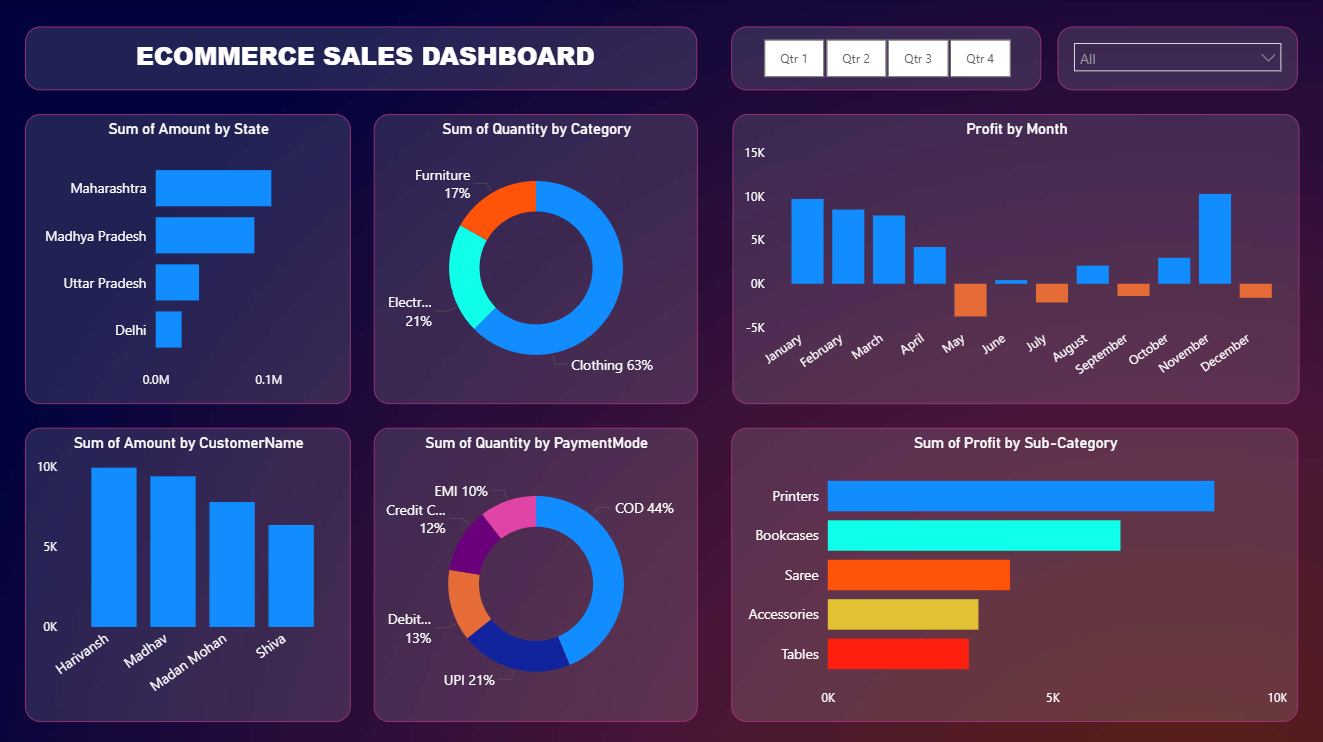

Layout of this report page (visuals, bound fields, positions):
{"tool":"powerbi","page":{"name":"Page 1","canvas":[1280,720],"ordinal":0},"visuals":[{"type":"textbox","box":[24.7,26.1,649.1,61.7],"z":0},{"type":"columnChart","title":"Profit by Month","fields":{"Category":["Orders.Order Date.Variation.Date Hierarchy.Month"],"Y":["Sum(Details.Profit)"]},"box":[706.7,111.1,547.5,279.9],"z":1000},{"type":"barChart","fields":{"Category":["Details.Sub-Category"],"Y":["Sum(Details.Profit)"]},"box":[705.3,414.4,547.5,284],"z":2000},{"type":"donutChart","fields":{"Category":["Details.Category"],"Y":["Sum(Details.Quantity)"]},"box":[360.9,111.1,312.9,279.9],"z":3000},{"type":"donutChart","fields":{"Y":["Sum(Details.Quantity)"],"Category":["Details.PaymentMode"]},"box":[360.9,414.4,312.9,284],"z":4000},{"type":"barChart","fields":{"Category":["Orders.State"],"Y":["Sum(Details.Amount)"]},"box":[24.7,111.1,314.2,279.9],"z":5000},{"type":"columnChart","fields":{"Category":["Orders.CustomerName"],"Y":["Sum(Details.Amount)"]},"box":[24.7,414.4,314.2,284],"z":6000},{"type":"slicer","fields":{"Values":["Orders.Order Date.Variation.Date Hierarchy.Quarter"]},"box":[705.3,26.1,299.1,61.7],"z":7000},{"type":"slicer","fields":{"Values":["Orders.State"]},"box":[1020.9,26.1,231.9,61.7],"z":8000}]}

Visuals, with their boxes in screenshot pixels (x1, y1, x2, y2), scaled from the page's 1280x720 canvas onto the 1323x742 screenshot:
textbox: (26,27,696,90)
"Profit by Month" columnChart: (730,114,1296,403)
barChart - Details.Sub-Category x Sum(Details.Profit): (729,427,1295,720)
donutChart - Details.Category x Sum(Details.Quantity): (373,114,696,403)
donutChart - Sum(Details.Quantity) x Details.PaymentMode: (373,427,696,720)
barChart - Orders.State x Sum(Details.Amount): (26,114,350,403)
columnChart - Orders.CustomerName x Sum(Details.Amount): (26,427,350,720)
slicer - Orders.Order Date.Variation.Date Hierarchy.Quarter: (729,27,1038,90)
slicer - Orders.State: (1055,27,1295,90)
